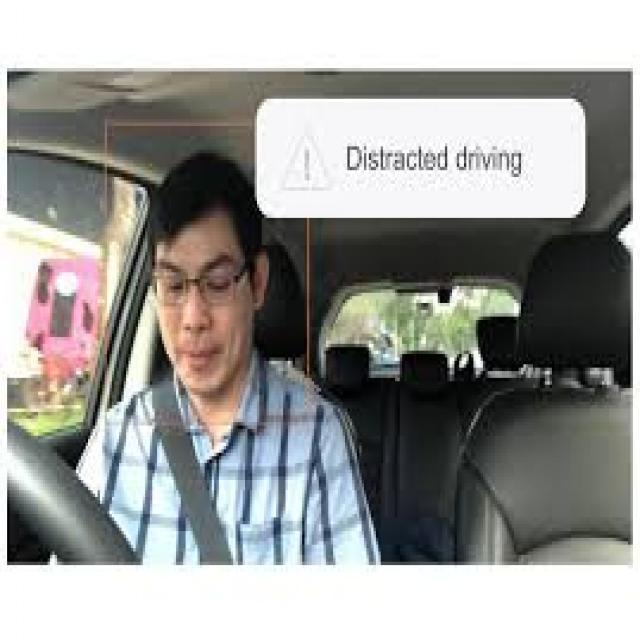seatbelt: (152, 347, 233, 565)
